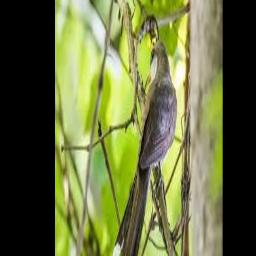Cuckoo: (111, 40, 177, 256)
